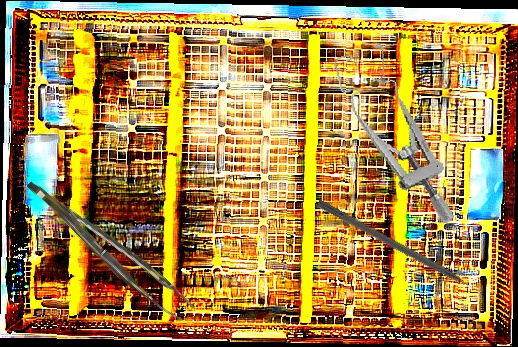Pusher: (315, 198, 488, 301)
Speculum: (332, 35, 457, 240)
Tissue Forceps: (26, 162, 195, 331)
